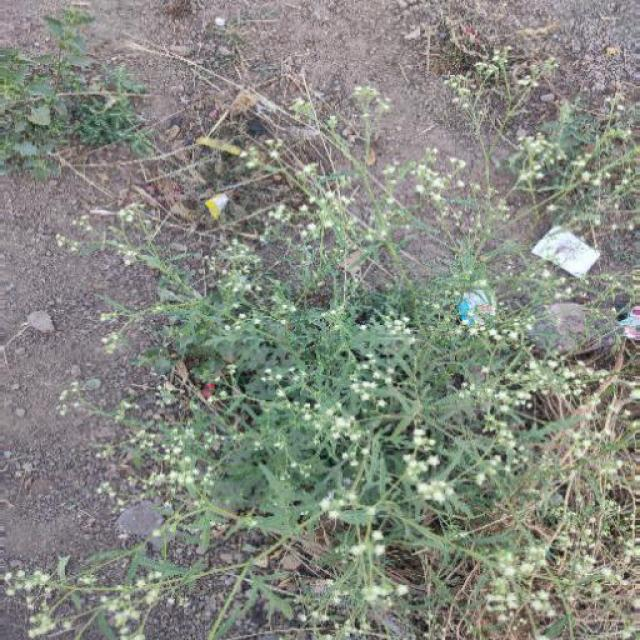weed: (174, 302, 640, 634)
